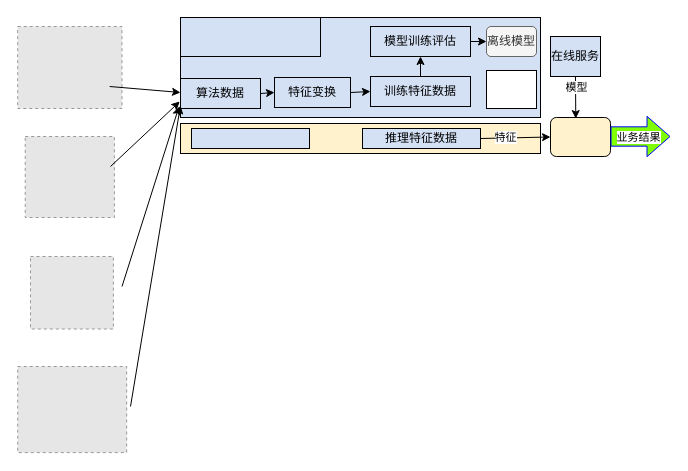
The diagram is 688 pixels wide and 471 high, and some of its shapes have lost their labels. Grey dashed boxes stand in for pictures. The shapes that lost their labels are listed below. From the top down, each one's box as (x1, y1, x2, y2) in pixels, then its label:
(180, 16, 320, 56): 业务需求
(486, 70, 536, 108): 模型管理
(190, 128, 310, 148): 在线数据处理
(550, 116, 610, 156): 业务系统 推荐/广告
